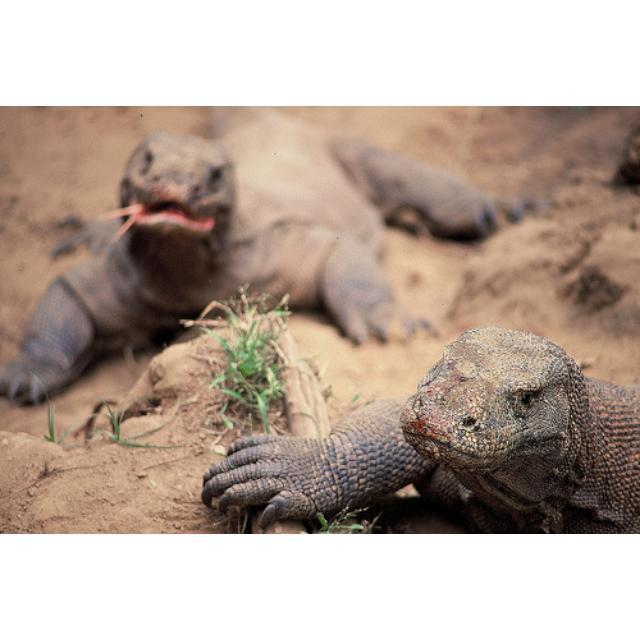KomodoDragon: (0, 107, 540, 406), (201, 326, 638, 532)
